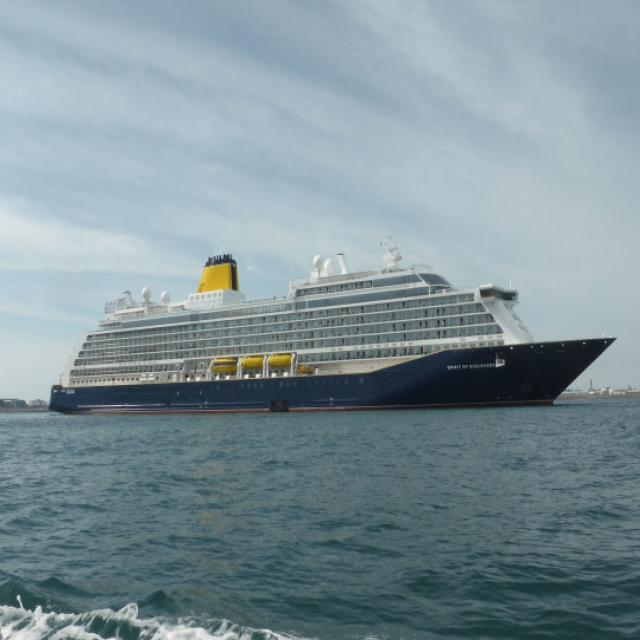cruises: (45, 235, 624, 405)
